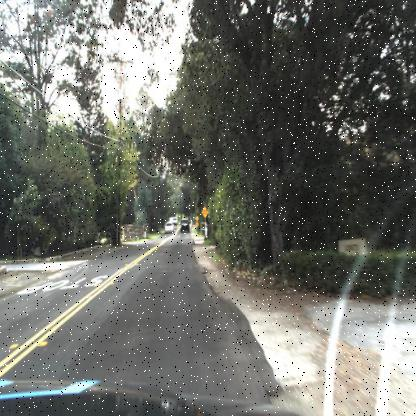car: (179, 218, 191, 234), (164, 222, 174, 234)
